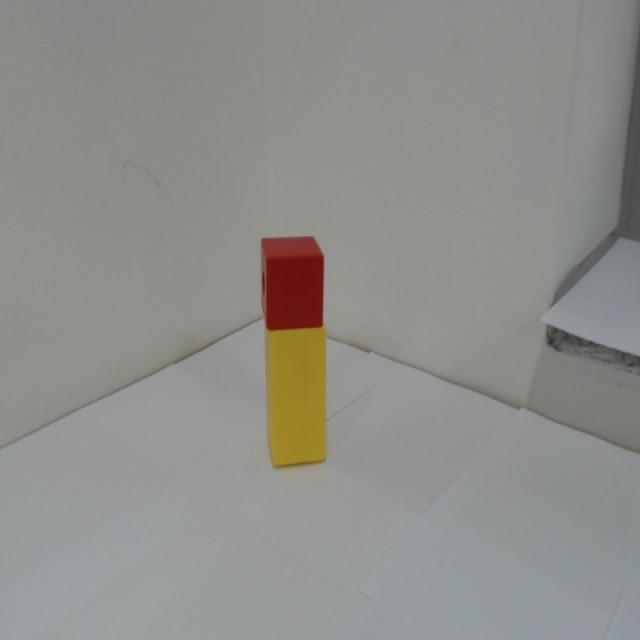cube: (257, 232, 329, 329)
